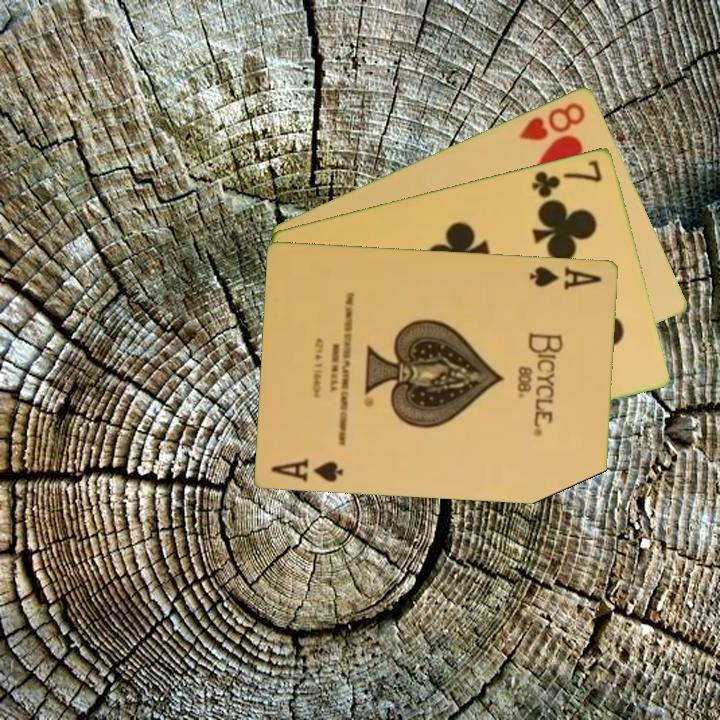7c: (528, 156, 606, 201)
8h: (516, 98, 589, 143)
As: (526, 262, 605, 292), (268, 455, 346, 485)
